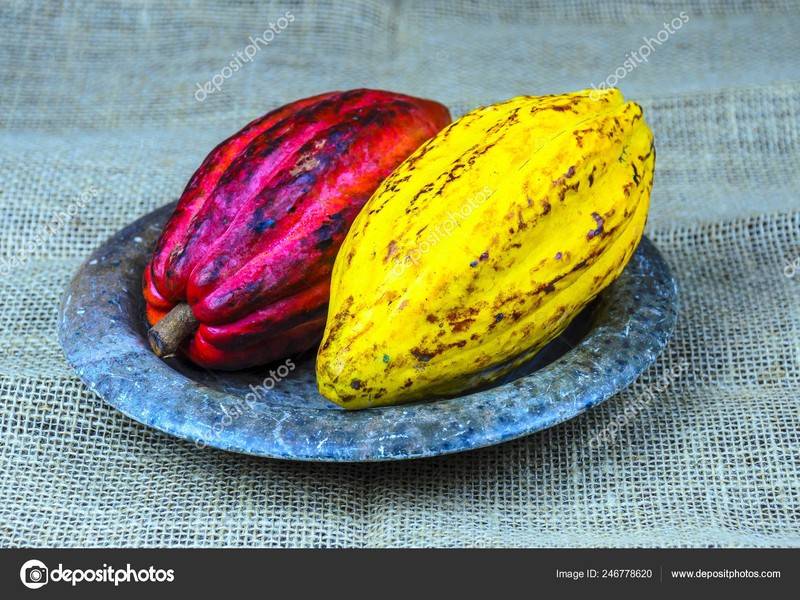Cacaopod: (312, 86, 657, 414)
